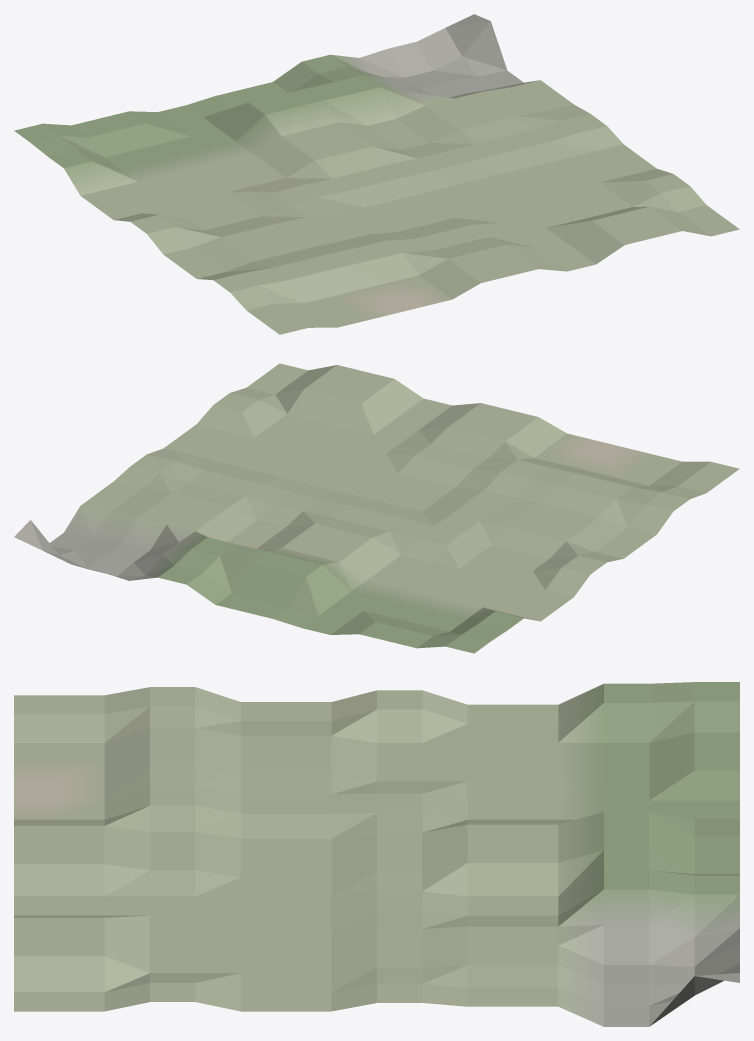
3 renders of one model, top to bottom at view 1: azimuth 30°, elevation 25°; view 2: azimuth 150°, elevation 25°; view 3: azimuth 270°, elevation 25°, orthographic. The views are drawn at different scales.
Size of the model in its own units: 32 by 2.47 by 32.
